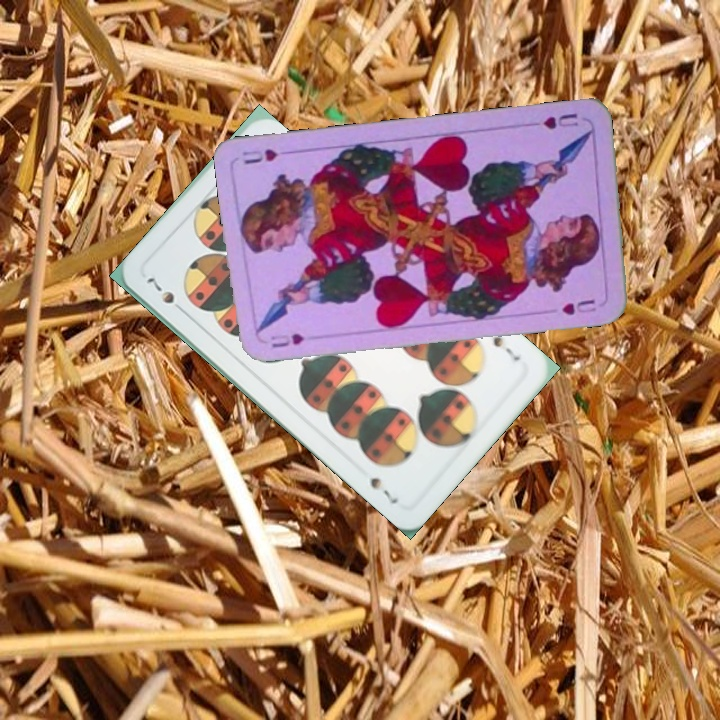HU: (526, 109, 581, 132), (266, 329, 307, 351)
S7: (143, 273, 189, 316), (488, 332, 524, 364)
